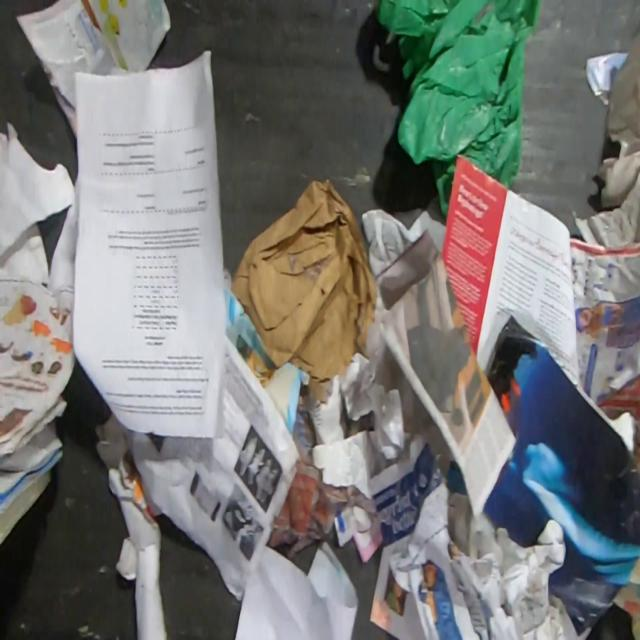cardboard: (13, 0, 172, 140), (0, 468, 54, 547)
soft_plastic: (376, 0, 542, 218)
